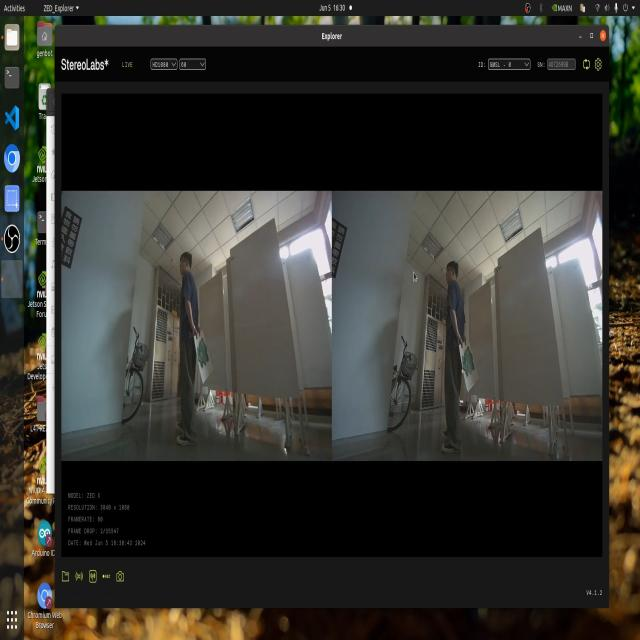green: (193, 335, 210, 369), (460, 342, 474, 373)
